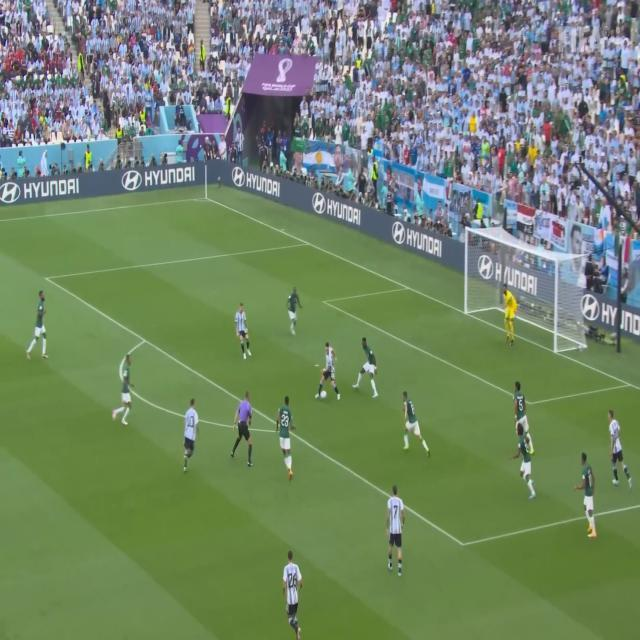football: (315, 389, 332, 402)
